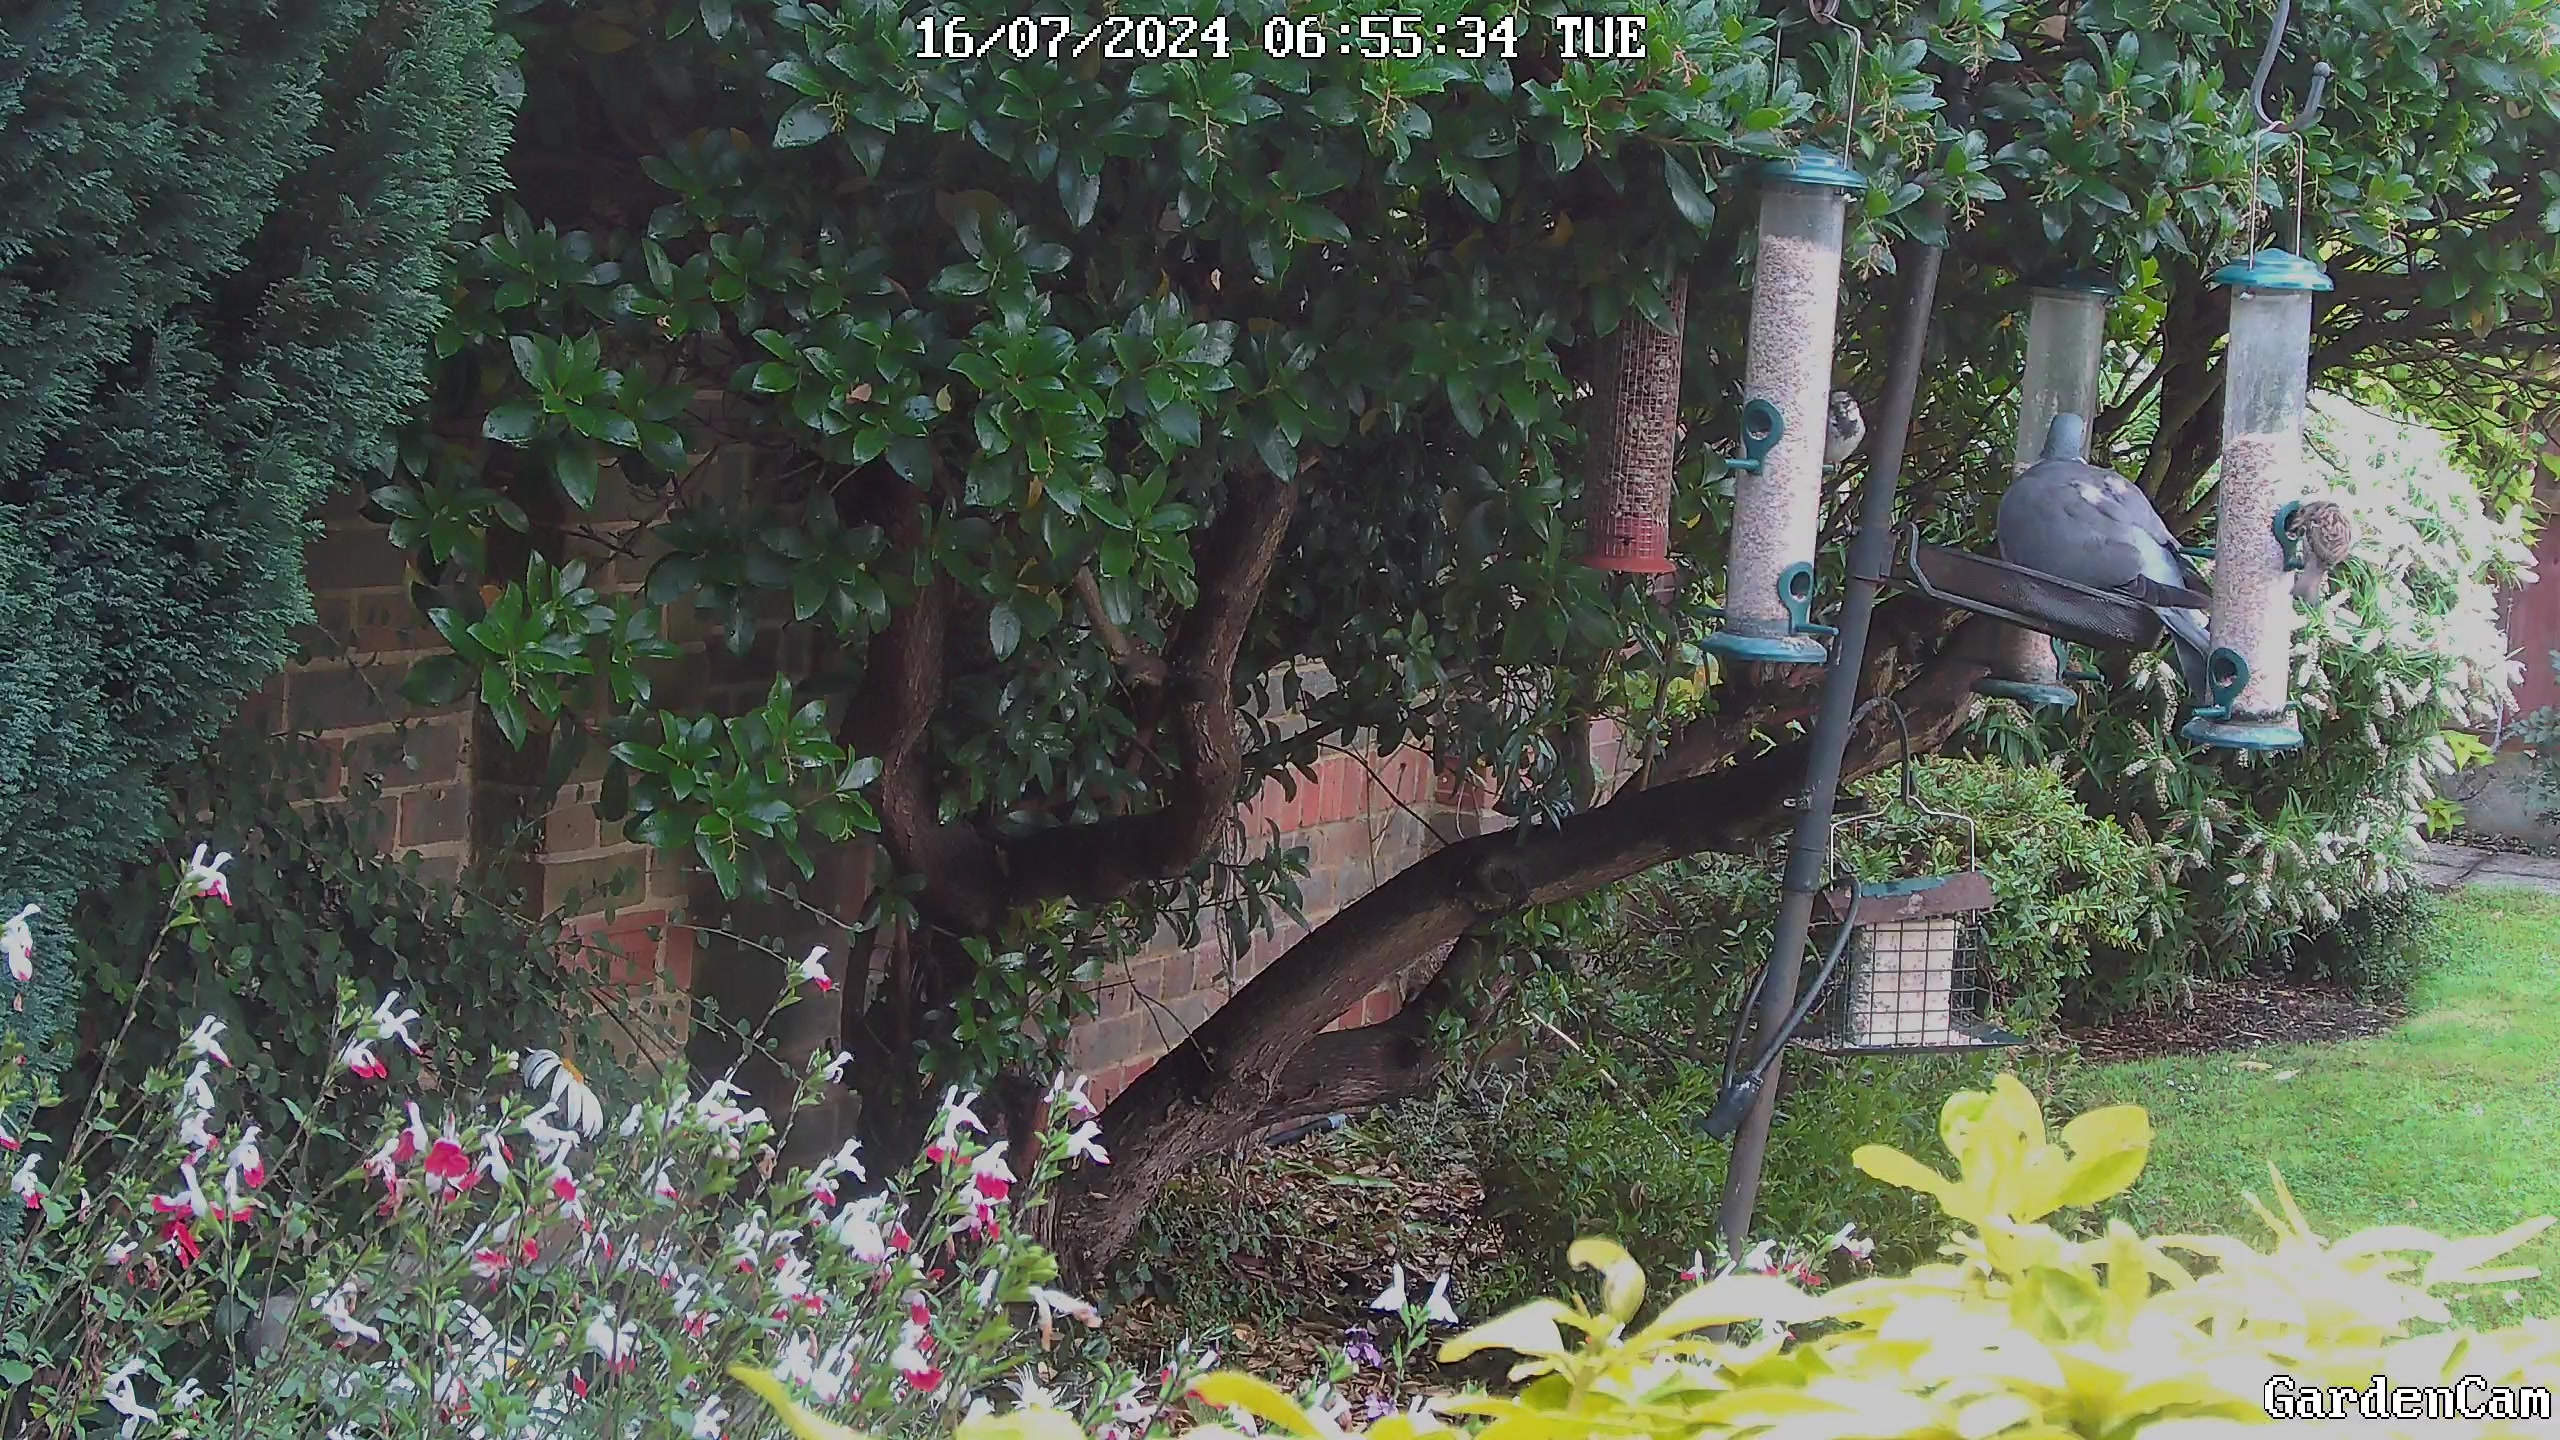House_Sparrow: (1820, 387, 1878, 498)
Wood_Pigeon: (1966, 390, 2252, 656)
